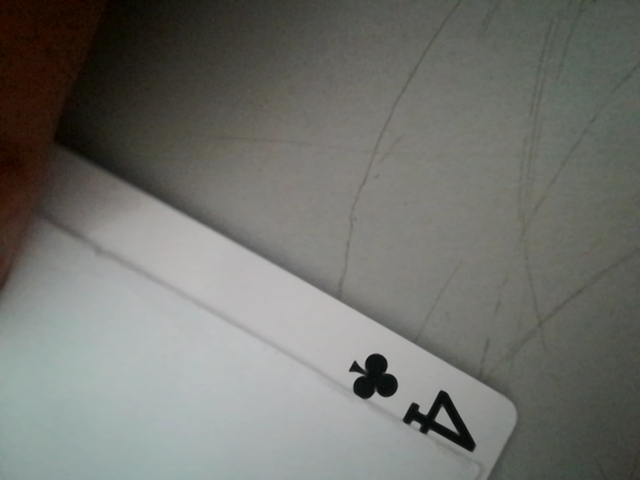mh 4: (329, 339, 494, 467)
